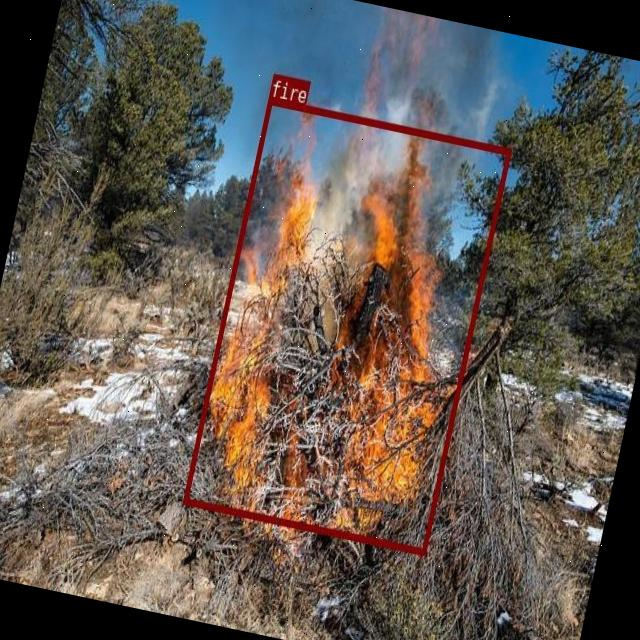fire: (181, 96, 510, 554)
